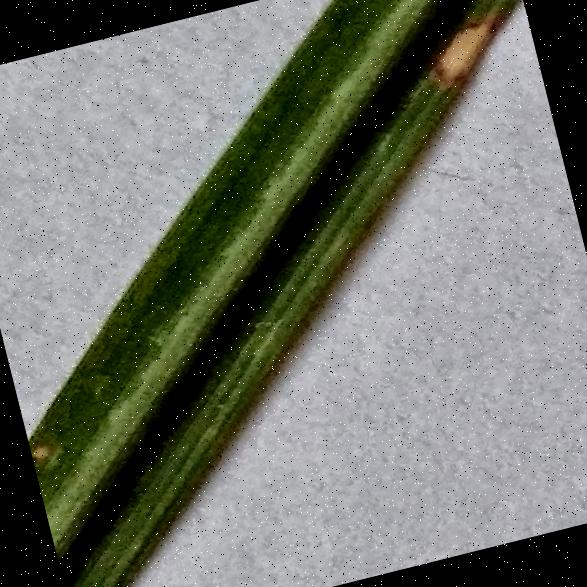Leaf_smut: (380, 3, 526, 112)
